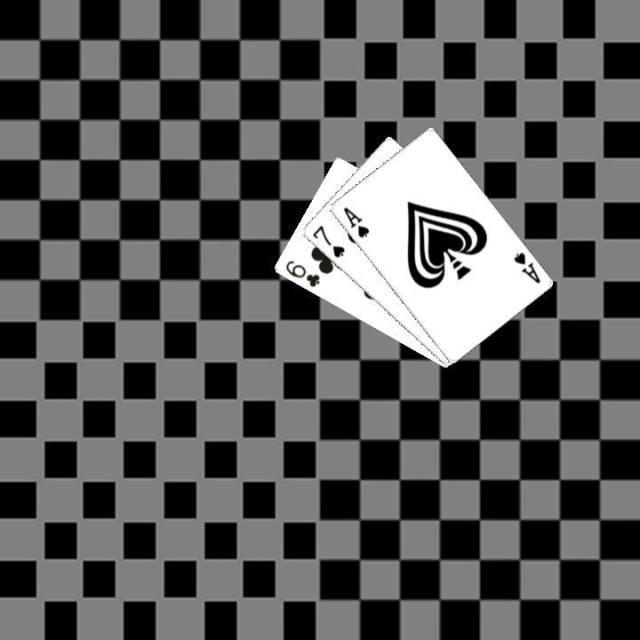6C: (281, 257, 321, 289)
7S: (308, 222, 347, 260)
AS: (338, 203, 371, 240), (510, 248, 542, 285)
